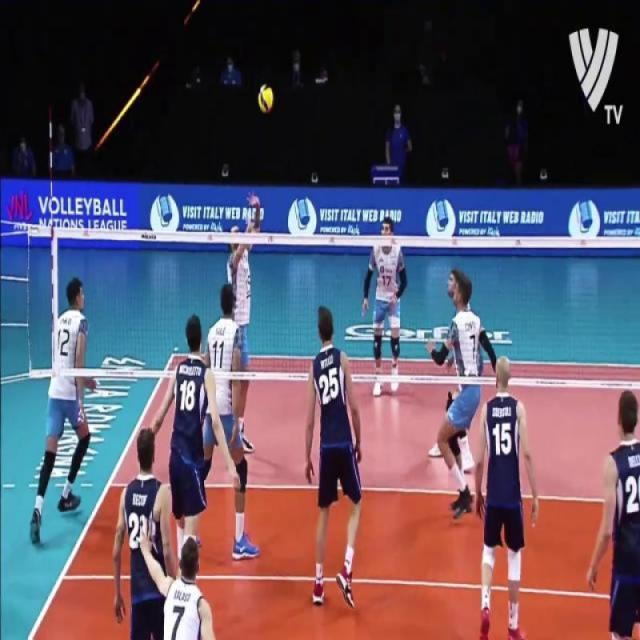volleyball: (258, 82, 274, 115)
